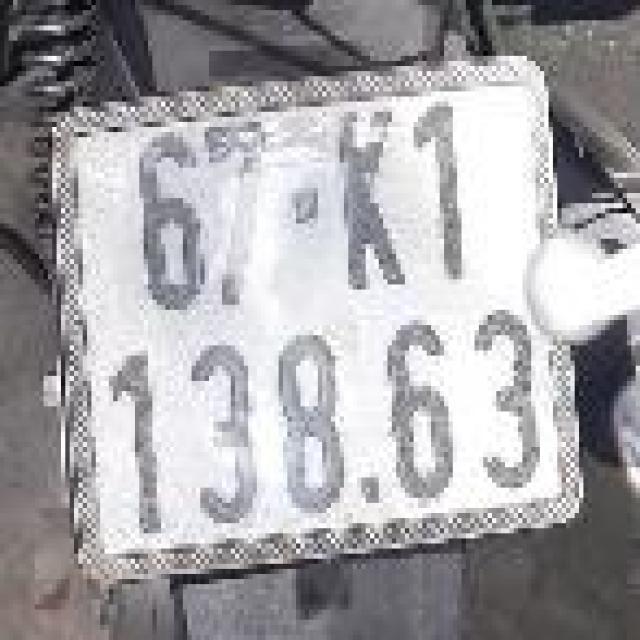1: (409, 96, 484, 290), (100, 348, 174, 541)
3: (466, 307, 553, 490), (183, 340, 265, 523)
6: (376, 318, 464, 500), (131, 125, 209, 318)
7: (200, 115, 270, 308)
8: (272, 332, 351, 516)
K: (333, 99, 407, 297)
